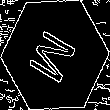M_SE: (26, 23, 84, 87)
